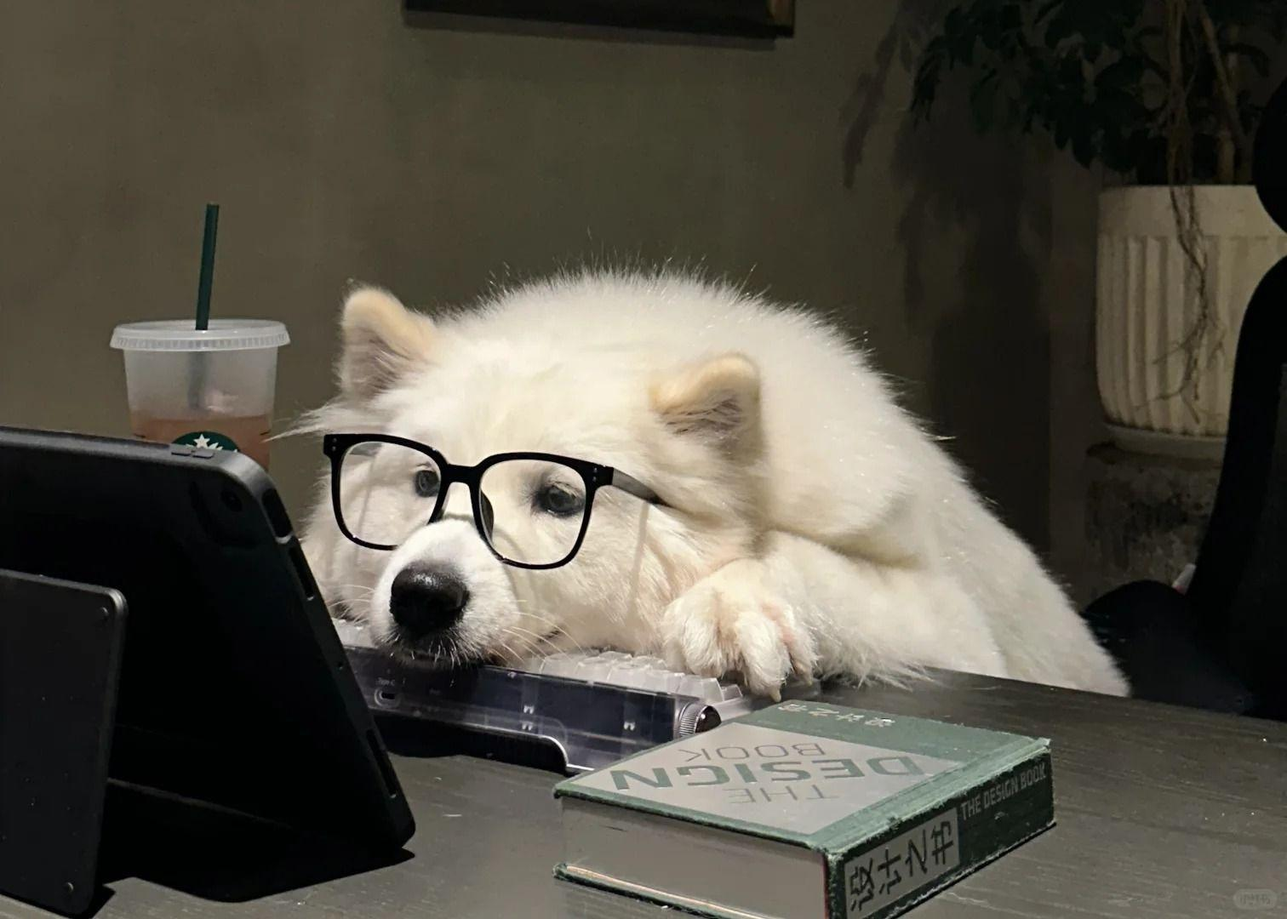adult_dog: (298, 268, 1124, 699)
